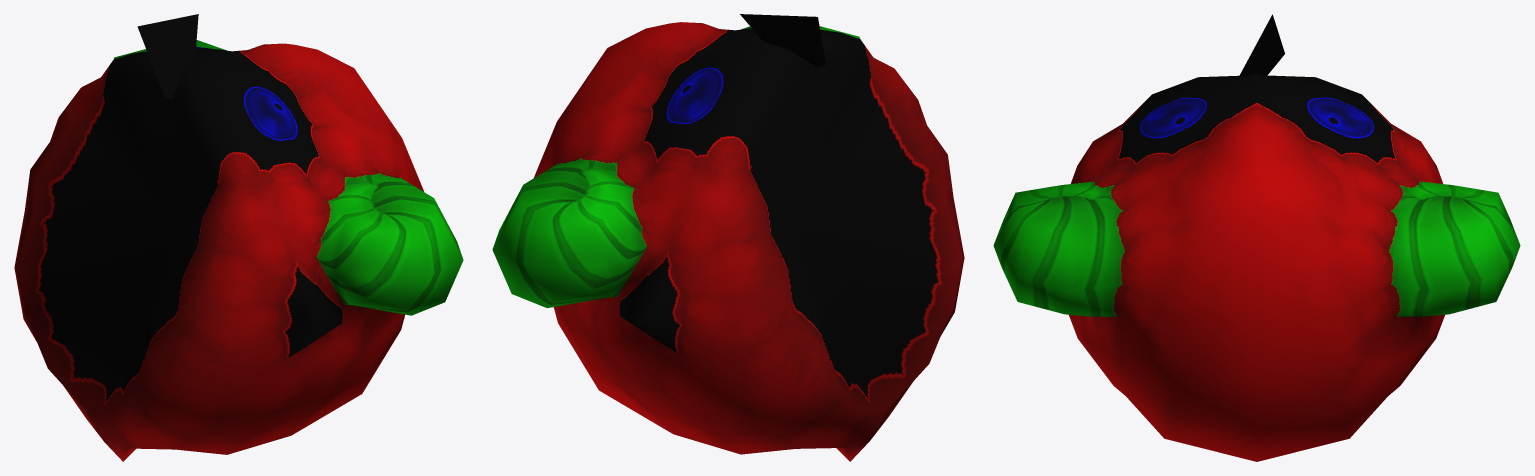
The picture shows the model from 3 angles, left to right: view 1: azimuth 30°, elevation 25°; view 2: azimuth 150°, elevation 25°; view 3: azimuth 270°, elevation 25°; orthographic projection. The views are drawn at different scales.
Visible parts, largest first — view 1: L1181; view 2: L1181; view 3: L1181.
Part boxes in pixels (left/top/right/bottom): L1181: left=14, top=14, right=463, bottom=461; L1181: left=492, top=14, right=964, bottom=461; L1181: left=993, top=14, right=1520, bottom=461.
Bounding box in the file's own units: 0.4931 × 0.6332 × 0.7532.
